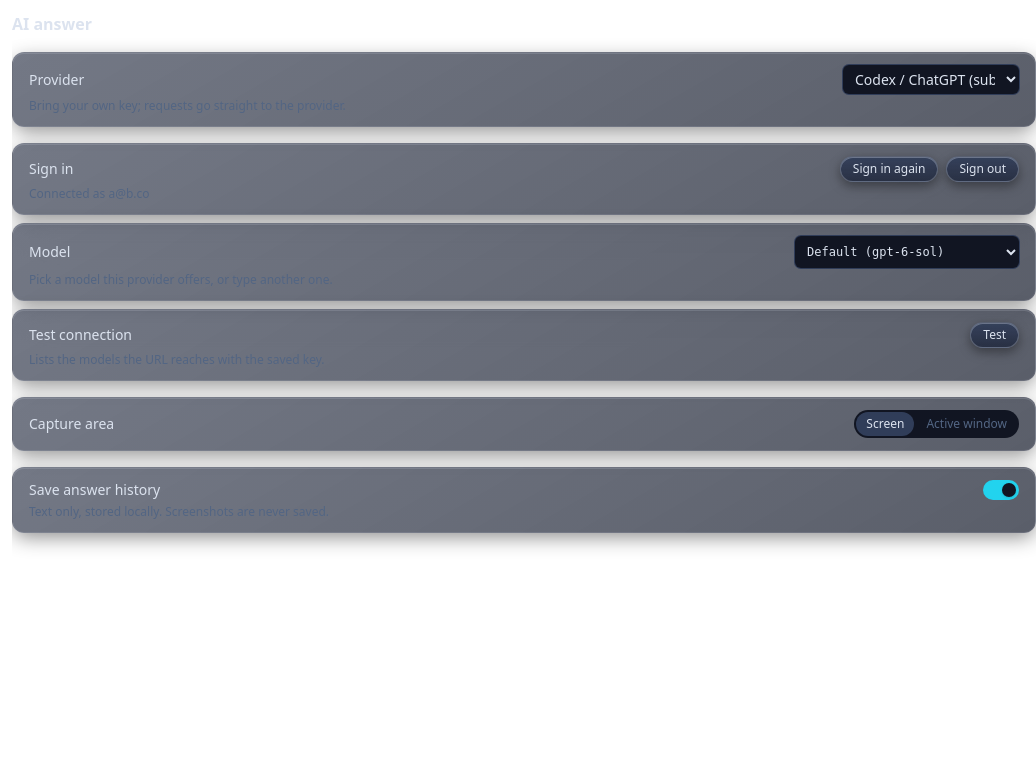
Test case: model picker › switches to typing for a model the list does not show
This screenshot has width=1036, height=780.
Select "Type another model…" in the dropdown named "Model" at point(907, 252), box [795,236,1019,268]
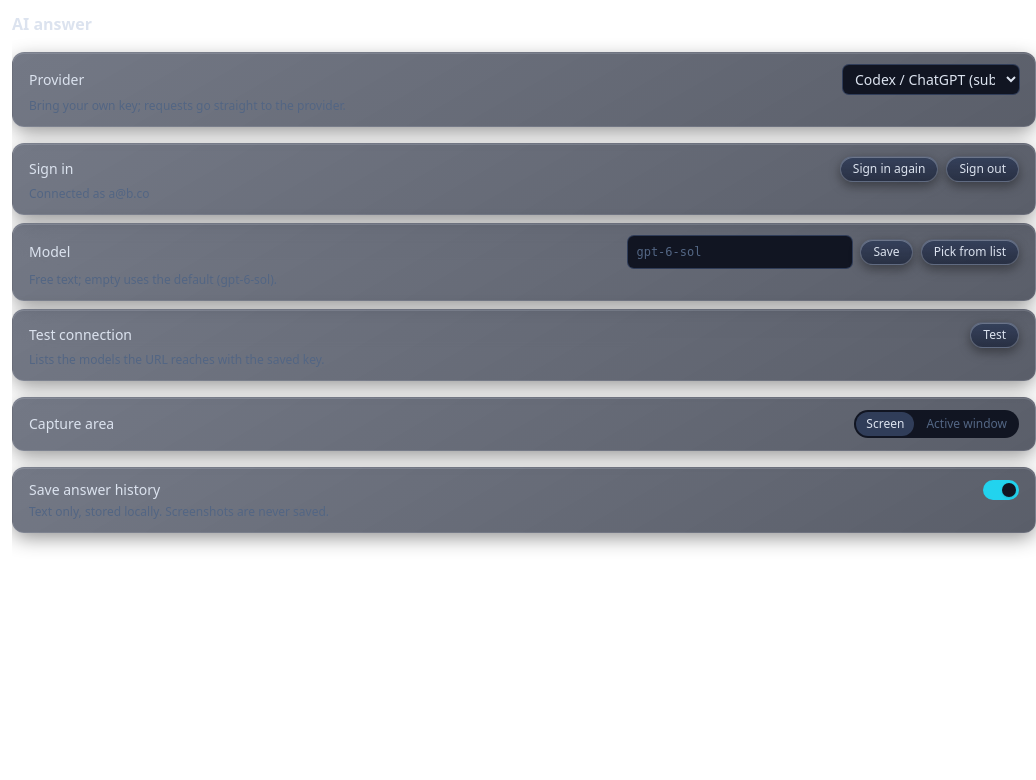
Expected: the field with placeholder "gpt-6-sol" is shown, [628,236,852,268]
Expected: the button "Pick from list" is shown, [921,239,1019,265]
